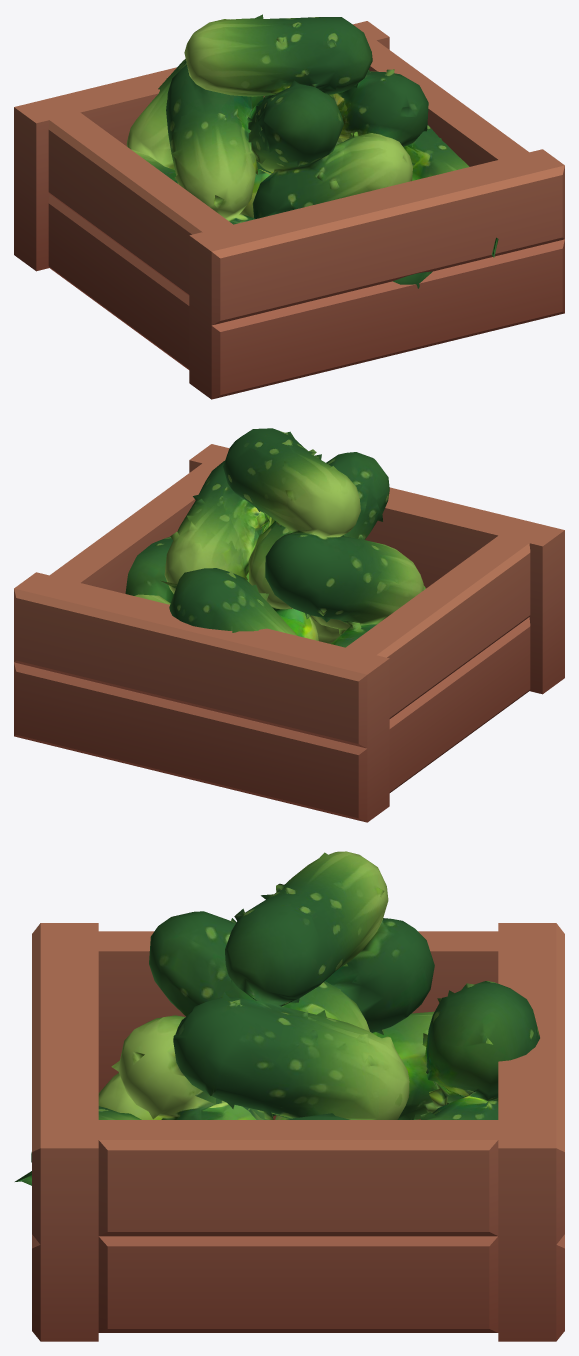
The model's file is pickle_counter.glb.
3 renders of one model, top to bottom at view 1: azimuth 30°, elevation 25°; view 2: azimuth 150°, elevation 25°; view 3: azimuth 270°, elevation 25°, orthographic. The views are drawn at different scales.
Parts seen in each view (by area): view 1: crate, tripo_node_eb1c1be7; view 2: crate, tripo_node_eb1c1be7; view 3: crate, tripo_node_eb1c1be7.
Part boxes in pixels (<box>): crate: <box>14,21,564,399</box>; tripo_node_eb1c1be7: <box>126,14,498,288</box>; crate: <box>14,444,564,822</box>; tripo_node_eb1c1be7: <box>125,428,425,647</box>; crate: <box>32,923,564,1341</box>; tripo_node_eb1c1be7: <box>15,851,539,1185</box>.
Size of the model in its own units: 2 by 1.43 by 2.07.
Materials: 2 (2 with a texture image).
